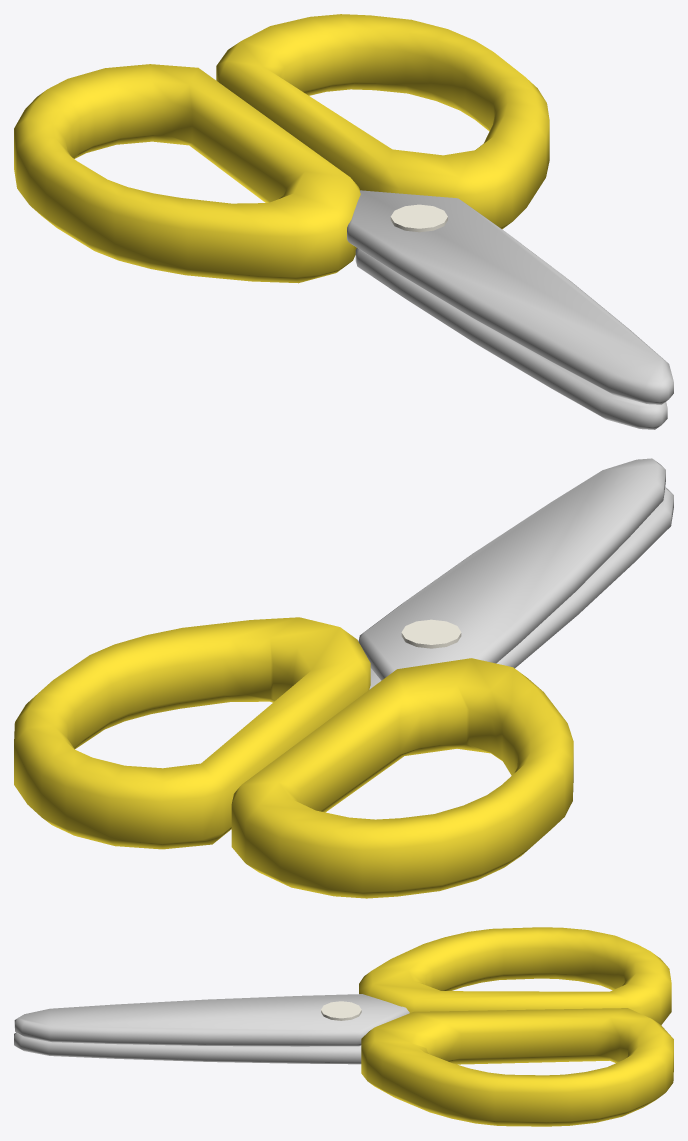
File: scissor_yellow.fbx
The picture shows the model from 3 angles, top to bottom: view 1: azimuth 30°, elevation 25°; view 2: azimuth 150°, elevation 25°; view 3: azimuth 270°, elevation 25°; orthographic projection. The views are drawn at different scales.
Visible parts, largest first — view 1: scissor_yellow; view 2: scissor_yellow; view 3: scissor_yellow.
Part boxes in pixels (x1,y1,x2,y2): scissor_yellow: (14,14,673,429); scissor_yellow: (14,458,673,898); scissor_yellow: (14,927,673,1126).
Size of the model in its own units: 0.7974 by 0.1061 by 1.38.
